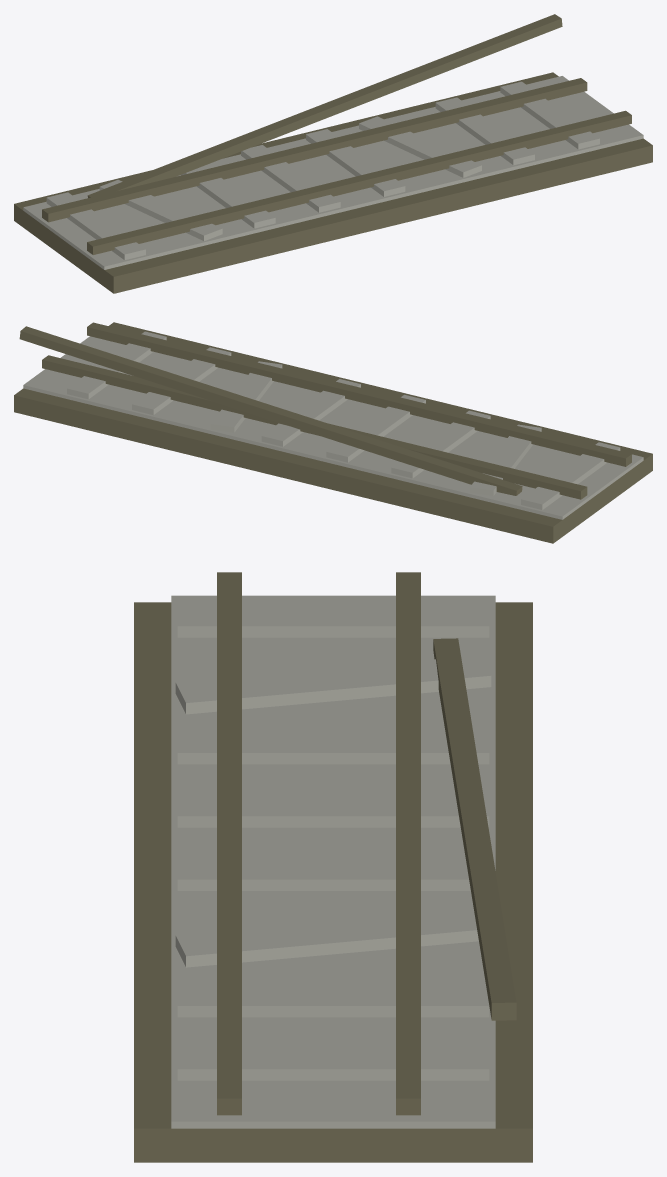
The model's file is SM_KitVia_v3_LOD1.fbx.
3 views of the same model, one above another, from view 1: azimuth 30°, elevation 25°; view 2: azimuth 150°, elevation 25°; view 3: azimuth 270°, elevation 25° (orthographic). The views are drawn at different scales.
Visible parts, largest first — view 1: SM_kit_via_v3_LOD1; view 2: SM_kit_via_v3_LOD1; view 3: SM_kit_via_v3_LOD1.
Part boxes in pixels (x1,y1,x2,y2): SM_kit_via_v3_LOD1: (14, 14, 652, 293); SM_kit_via_v3_LOD1: (14, 322, 652, 543); SM_kit_via_v3_LOD1: (134, 572, 532, 1162).
Bounding box in the file's own units: 9.98 × 1.39 × 3.2.
